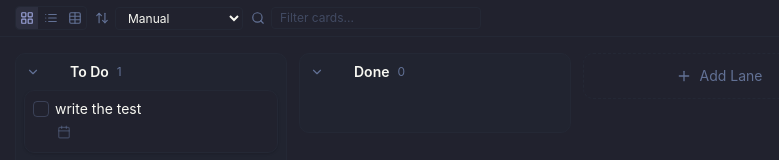
Test case: KanbanView — applyChange no-op guard (M27) › still applies the next external reload after a no-op change
Step 1. Click the button named "Board view" → (27, 18), box [16,7,38,29]
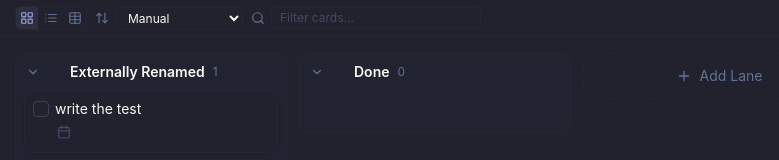
Check: the text "Externally Renamed" is shown, box [66,62,209,82]
Check: the text "To Do" is gone
